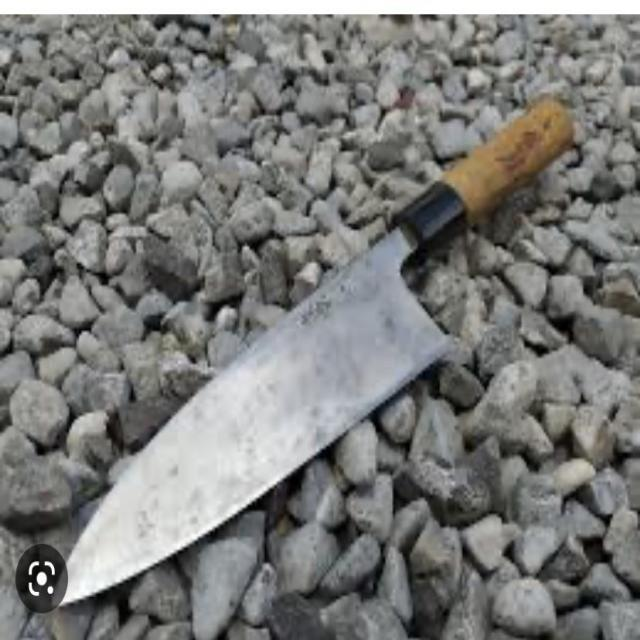Knife: (46, 90, 576, 606)
